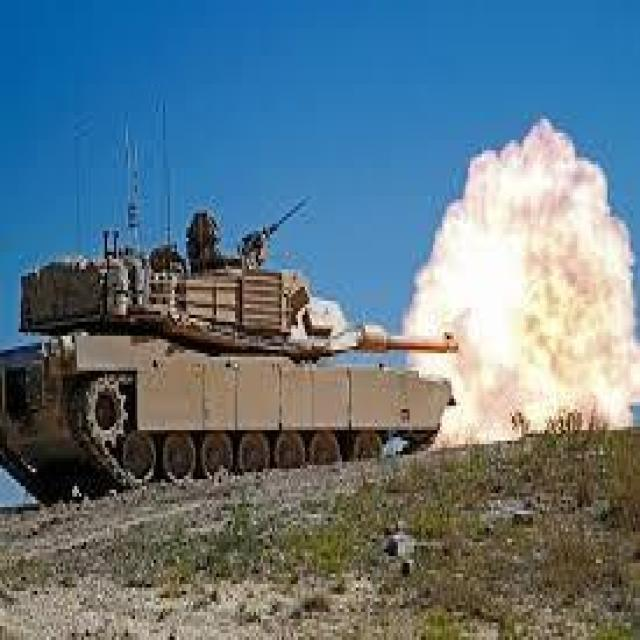Tanks: (6, 222, 464, 488)
